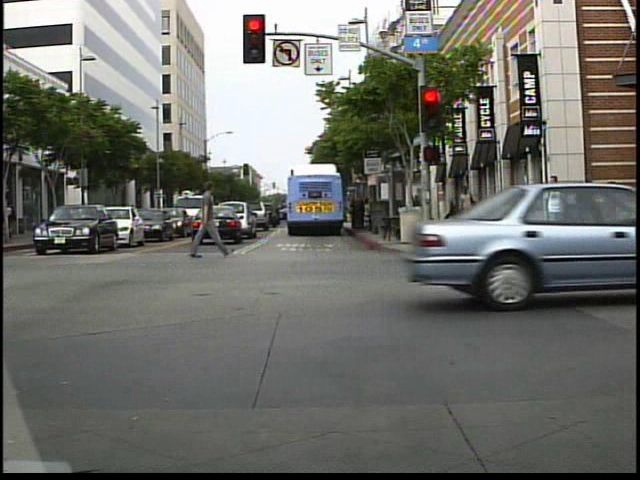person: (187, 178, 228, 263)
